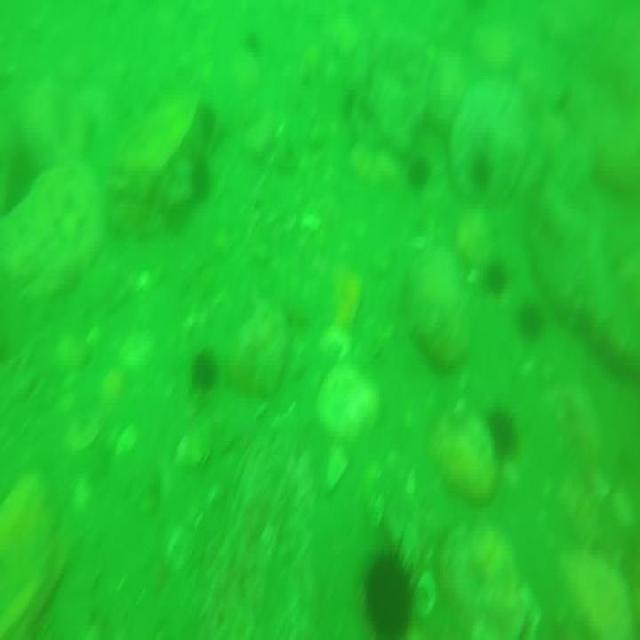echinus: (361, 547, 416, 640), (492, 408, 518, 460), (519, 302, 548, 346), (410, 150, 436, 193), (469, 150, 497, 185), (191, 356, 215, 395), (193, 158, 214, 196), (489, 259, 506, 294)
scallop: (308, 362, 381, 441), (177, 410, 219, 470), (113, 327, 160, 367), (165, 520, 194, 575), (63, 410, 106, 446), (112, 422, 137, 460), (368, 487, 385, 523)
